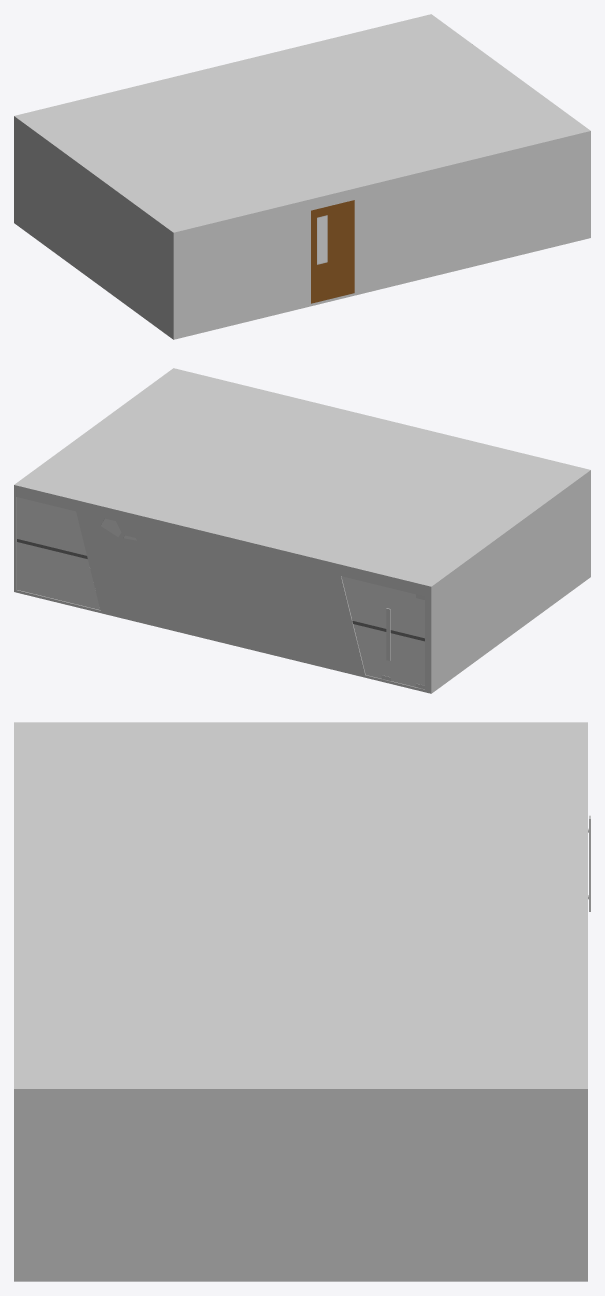
Rendered from LabVirtualTes.fbx.
3 views of the same model, one above another, from view 1: azimuth 30°, elevation 25°; view 2: azimuth 150°, elevation 25°; view 3: azimuth 270°, elevation 25° (orthographic). The views are drawn at different scales.
Visible parts, largest first — view 1: Lab, PintuKayu, KacaPintuKayu; view 2: Lab, KacaBesar, PintuKaca, KacaPintu; view 3: Lab.
Part boxes in pixels (x1,y1,x2,y2): Lab: (14,14,590,339); PintuKayu: (311,200,354,303); KacaPintuKayu: (317,216,327,263); Lab: (14,368,590,693); KacaBesar: (17,497,100,609); PintuKaca: (381,586,424,686); KacaPintu: (341,576,381,678); Lab: (14,722,587,1281).
Bounding box in the file's own units: 2064 × 506 × 1374.
